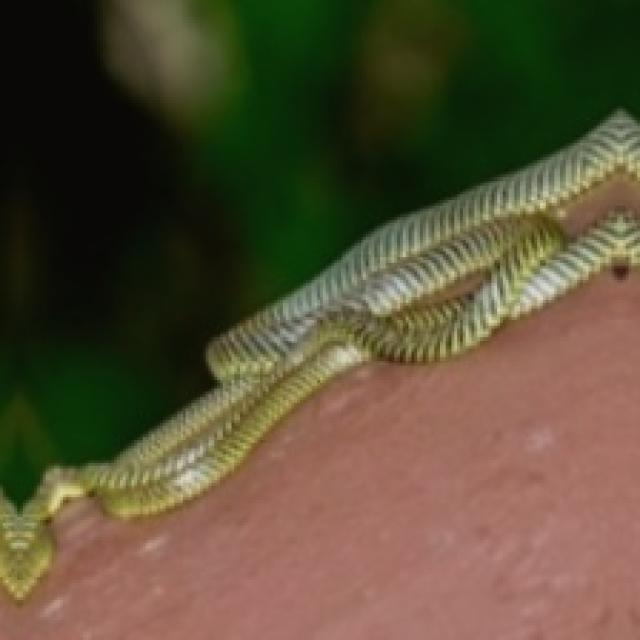paradise tree snake: (0, 111, 637, 597)
